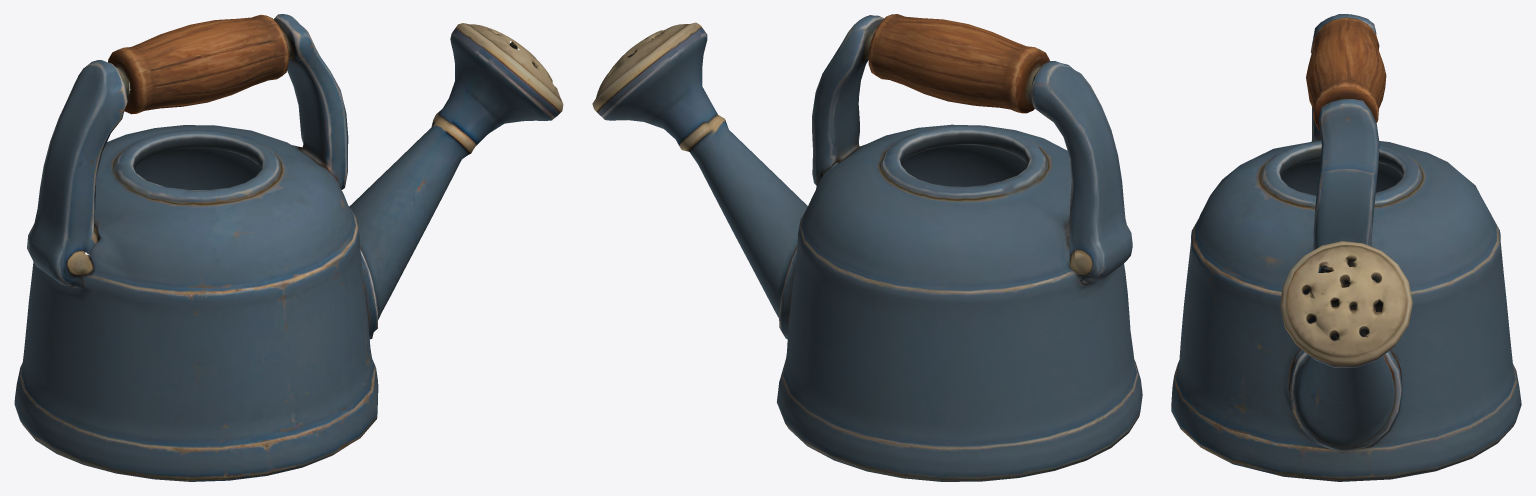
File: watering_can.glb
3 views of the same model, side by side, from view 1: azimuth 30°, elevation 25°; view 2: azimuth 150°, elevation 25°; view 3: azimuth 270°, elevation 25° (orthographic). The views are drawn at different scales.
Parts seen in each view (by area): view 1: tripo_node_d0f47b4f; view 2: tripo_node_d0f47b4f; view 3: tripo_node_d0f47b4f.
Part boxes in pixels (left/top/right/bottom): tripo_node_d0f47b4f: left=14, top=14, right=563, bottom=481; tripo_node_d0f47b4f: left=592, top=14, right=1142, bottom=481; tripo_node_d0f47b4f: left=1171, top=14, right=1521, bottom=481.
Size of the model in its own units: 97.76 by 69.24 by 60.08.
Materials: 1 (1 with a texture image).
